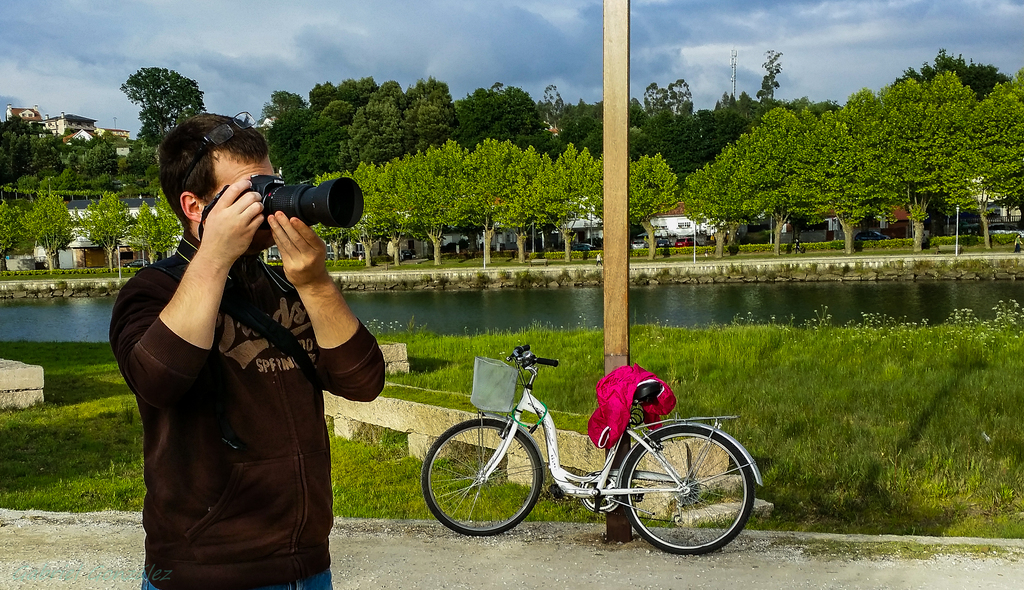Bike: (404, 362, 766, 553)
